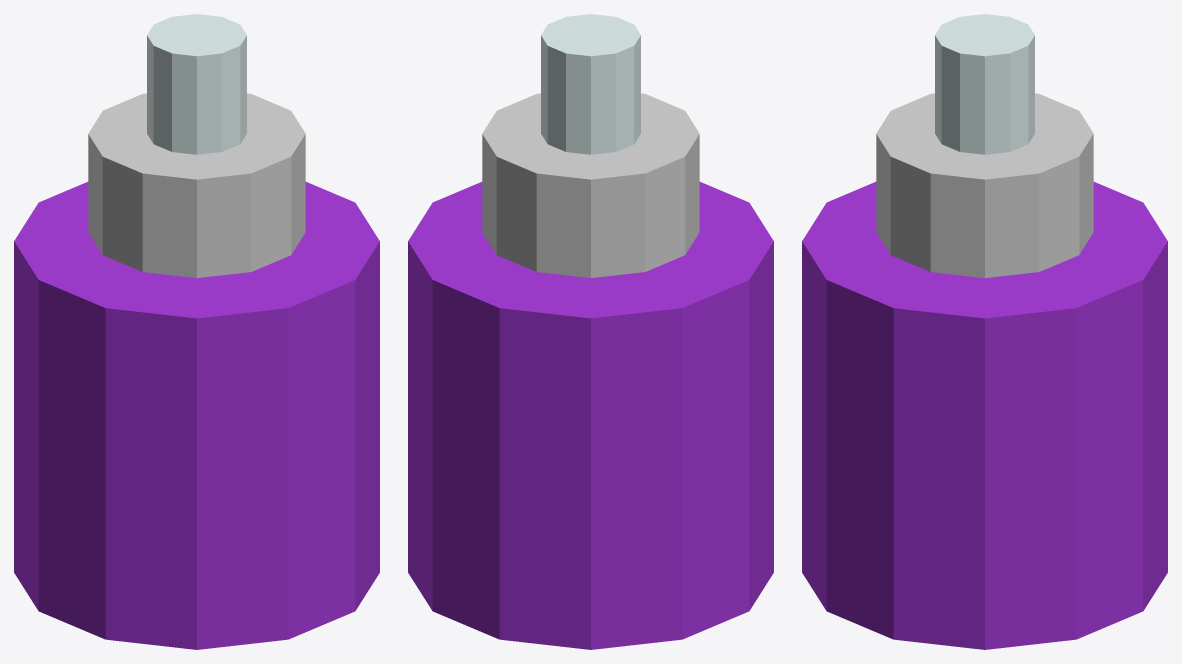
File: bottle3_1.glb
3 views of the same model, side by side, from view 1: azimuth 30°, elevation 25°; view 2: azimuth 150°, elevation 25°; view 3: azimuth 270°, elevation 25° (orthographic).
Size of the model in its own units: 0.37 by 0.6 by 0.37.
